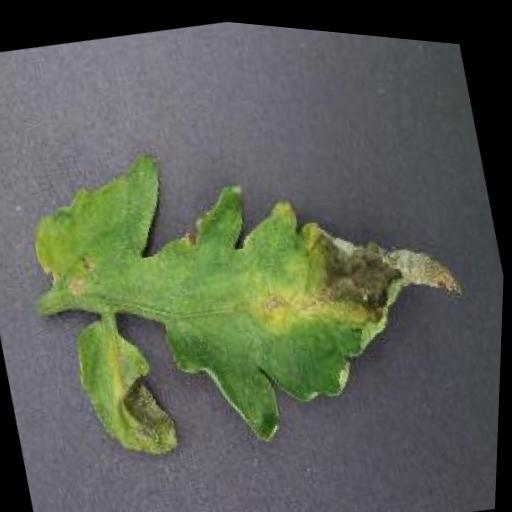Late Blight: (10, 74, 506, 500)
